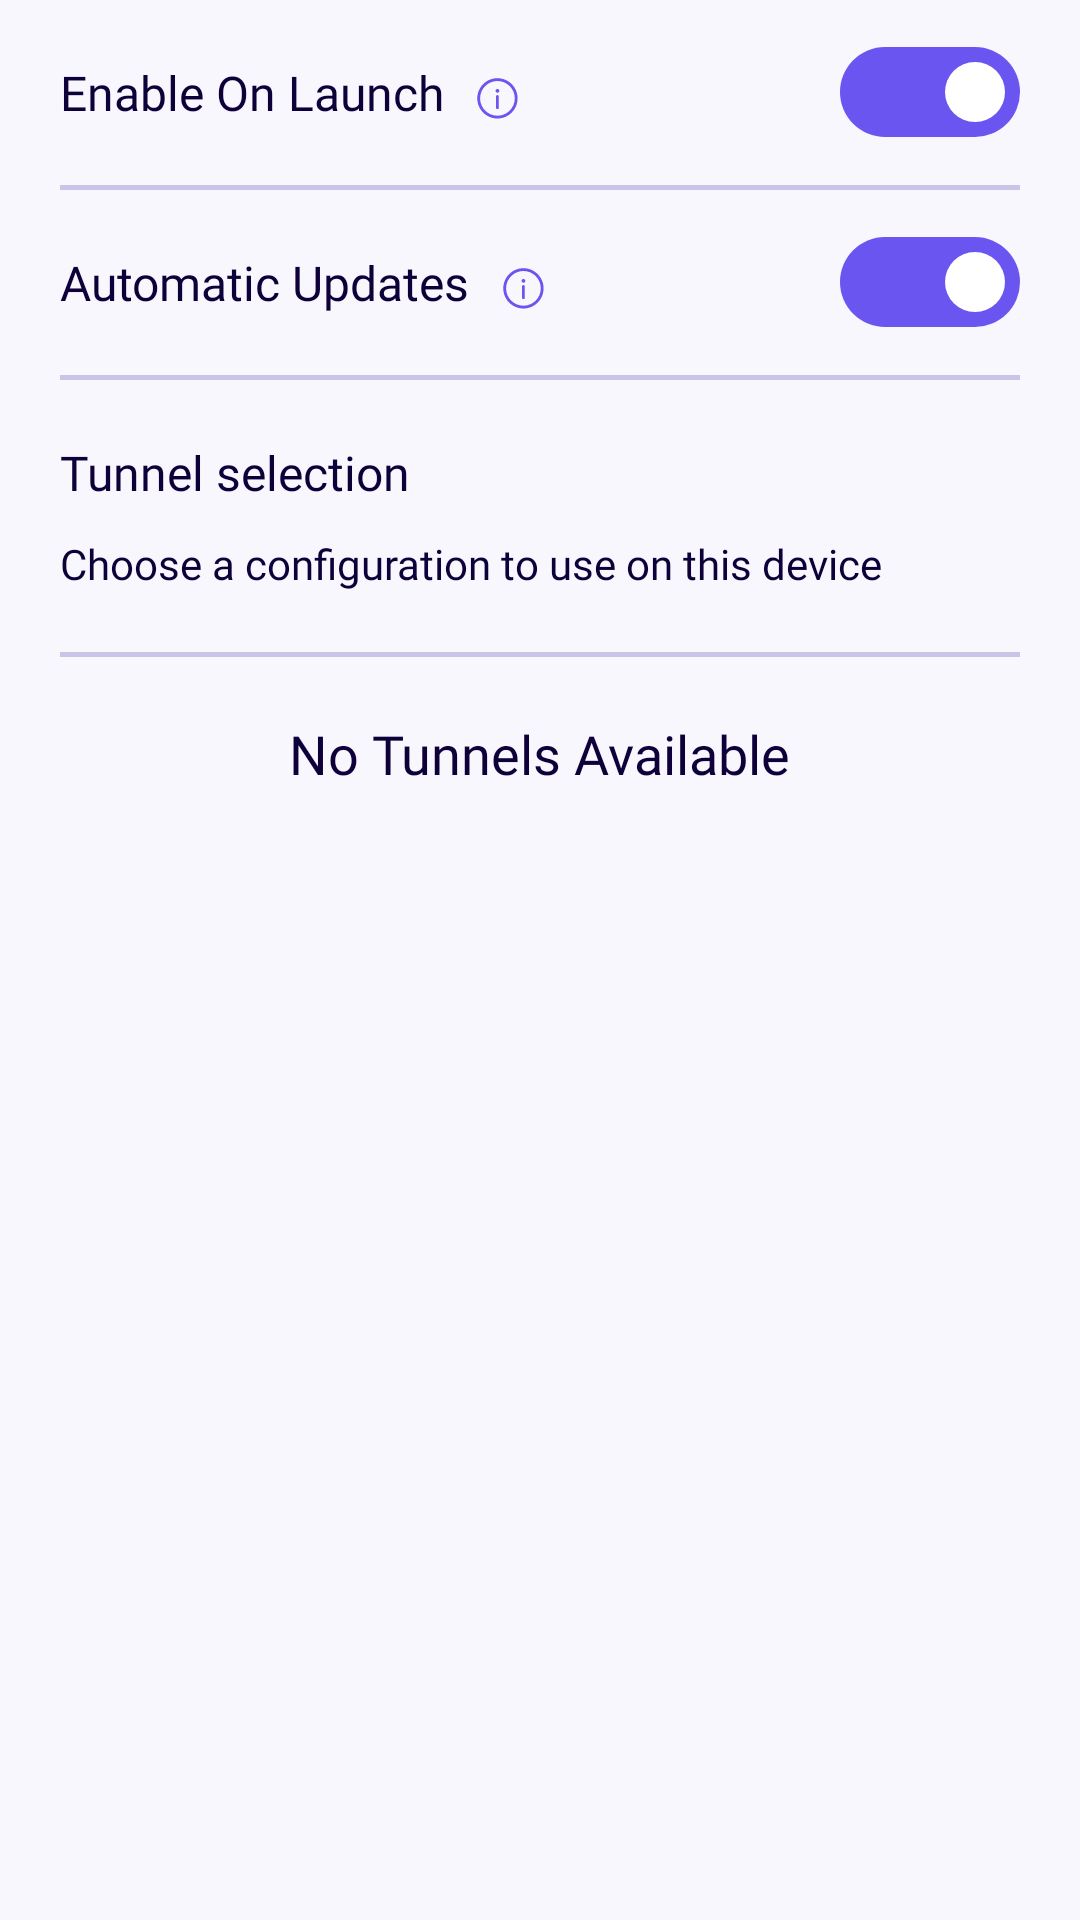

Named icons in this screenshot (1080 x 1920) and their bounding boxes, (x1, y1, x2, y2):
info icon: (477, 78, 518, 119), (503, 268, 544, 309)
